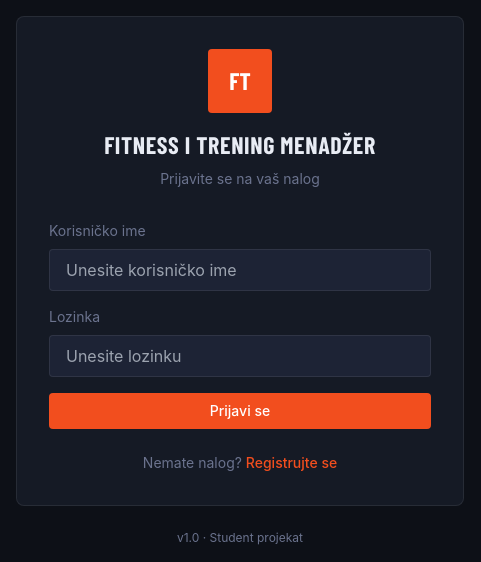
Login Page › disables submit button while loading
In the field with placeholder "Unesite korisničko ime": (240, 270) [49,249,431,291], type "testuser"
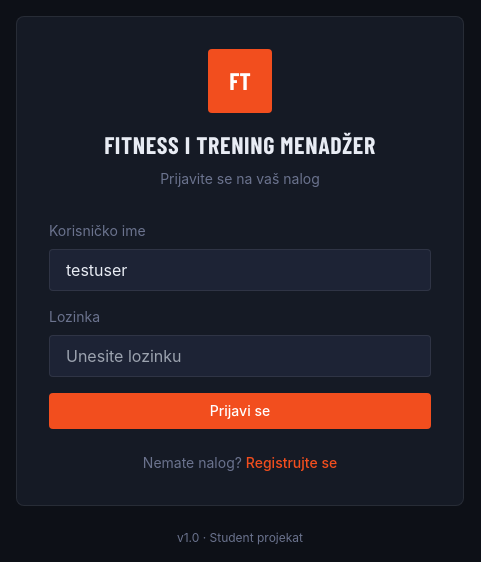
In the password field with placeholder "Unesite lozinku": (240, 356) [49,335,431,377], type "password123"
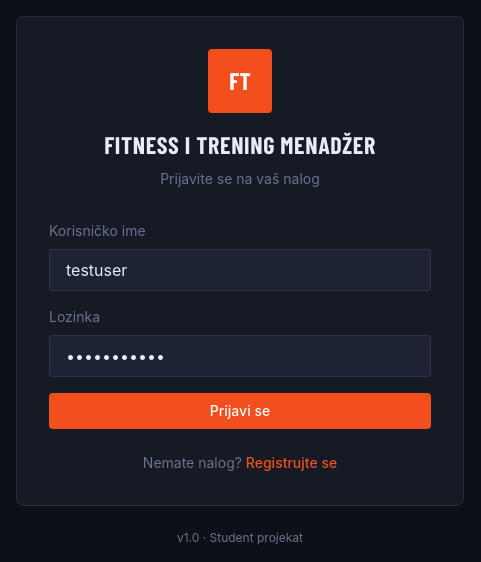
Click the button "Prijavi se": (240, 411) [49,393,431,429]
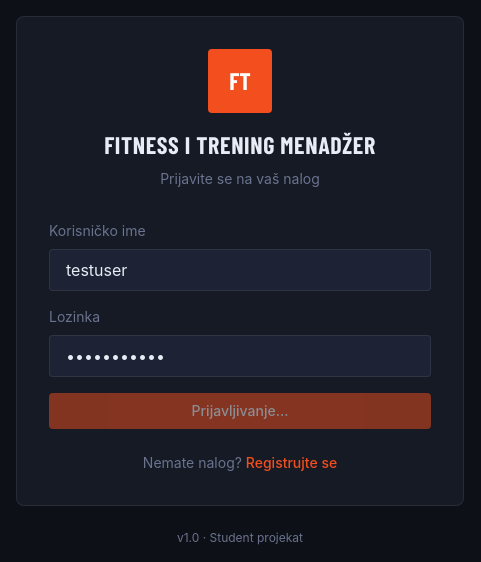
Now the button named "prijavi se" is disabled, box [49,393,431,429]
